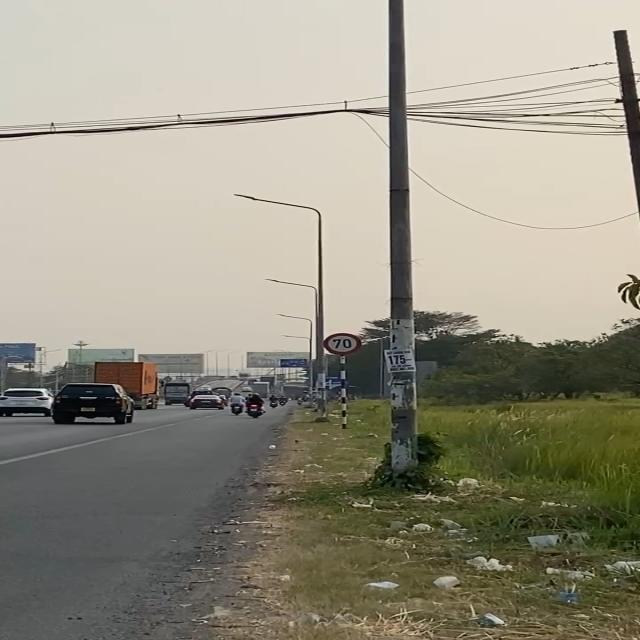127-toc-do-toi-da-70: (323, 332, 361, 356)
